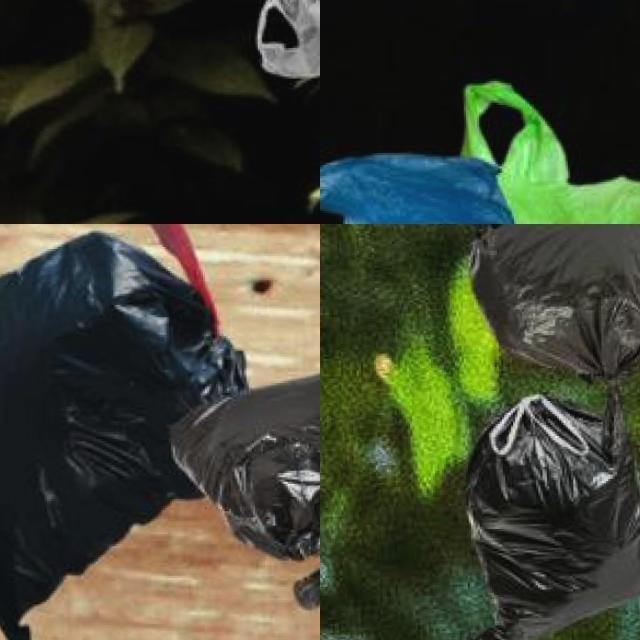waste: (0, 227, 249, 640), (466, 390, 640, 635), (455, 82, 640, 224), (191, 362, 320, 564), (471, 224, 640, 377), (320, 148, 520, 224)
